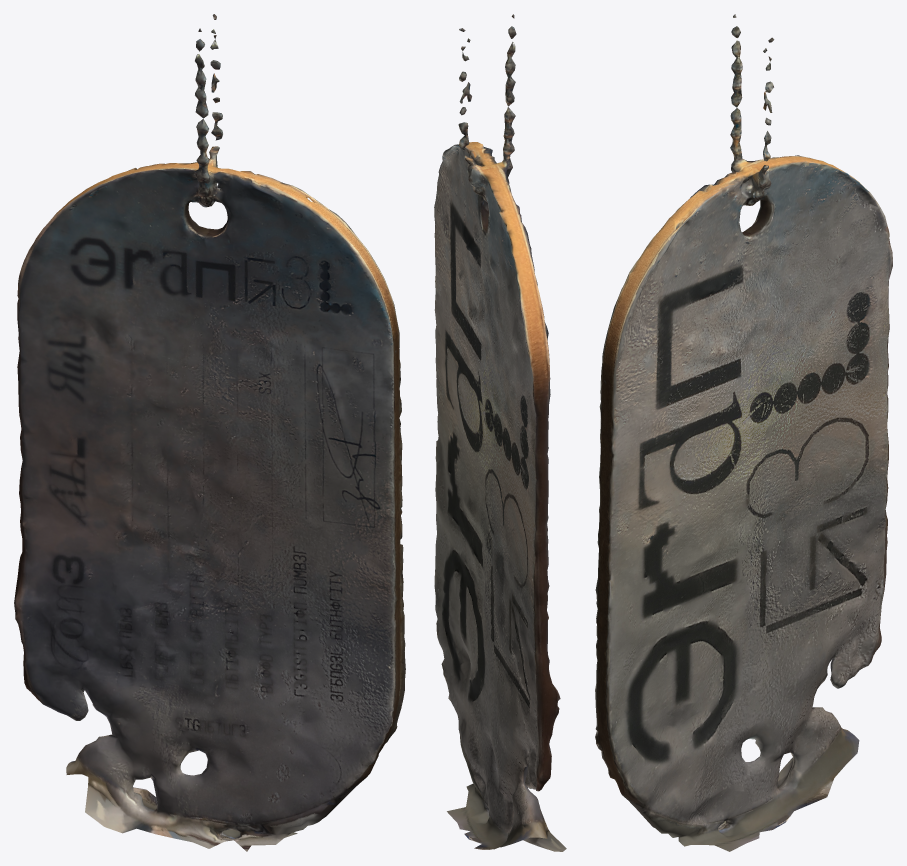
File: chain.glb
The picture shows the model from 3 angles, left to right: view 1: azimuth 30°, elevation 25°; view 2: azimuth 150°, elevation 25°; view 3: azimuth 270°, elevation 25°; orthographic projection.
Parts seen in each view (by area): view 1: chain; view 2: chain; view 3: chain.
Boxes of the visible parts, left/top/right/bottom form: chain: left=14, top=14, right=405, bottom=851; chain: left=434, top=14, right=566, bottom=851; chain: left=595, top=14, right=892, bottom=851.
Size of the model in its own units: 0.7712 by 2.33 by 0.7797.
Materials: 1 (1 with a texture image).
